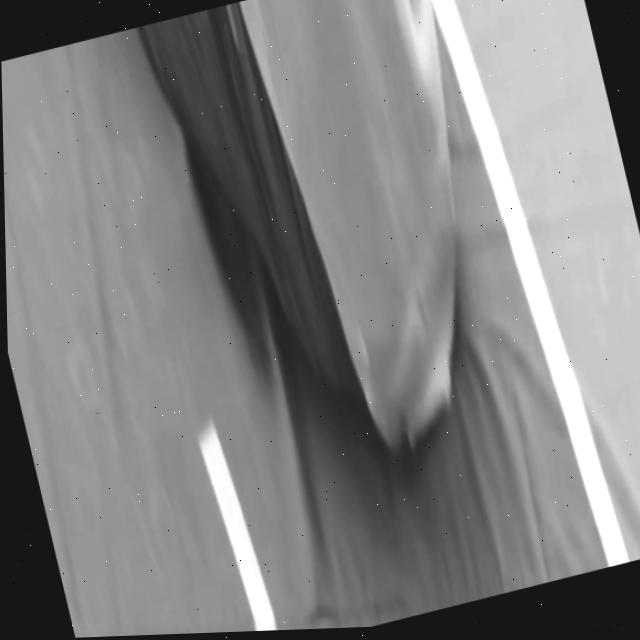center: (198, 421, 276, 631)
right: (432, 0, 628, 567)
